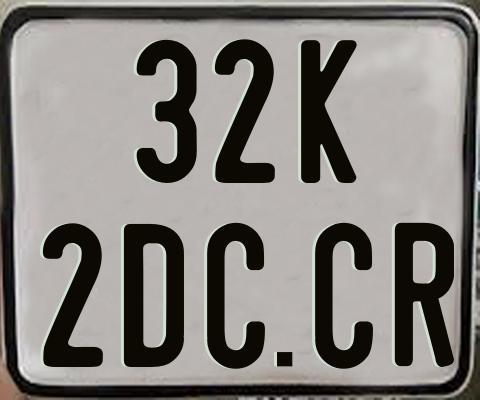2: (42, 223, 107, 368), (212, 38, 273, 185)
3: (135, 37, 200, 181)
C: (205, 223, 267, 374), (312, 223, 373, 375)
D: (122, 223, 185, 372)
K: (300, 37, 357, 181)
R: (394, 223, 457, 373)
